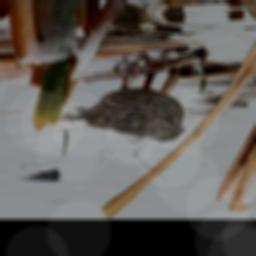Sparrow: (58, 62, 189, 143)
